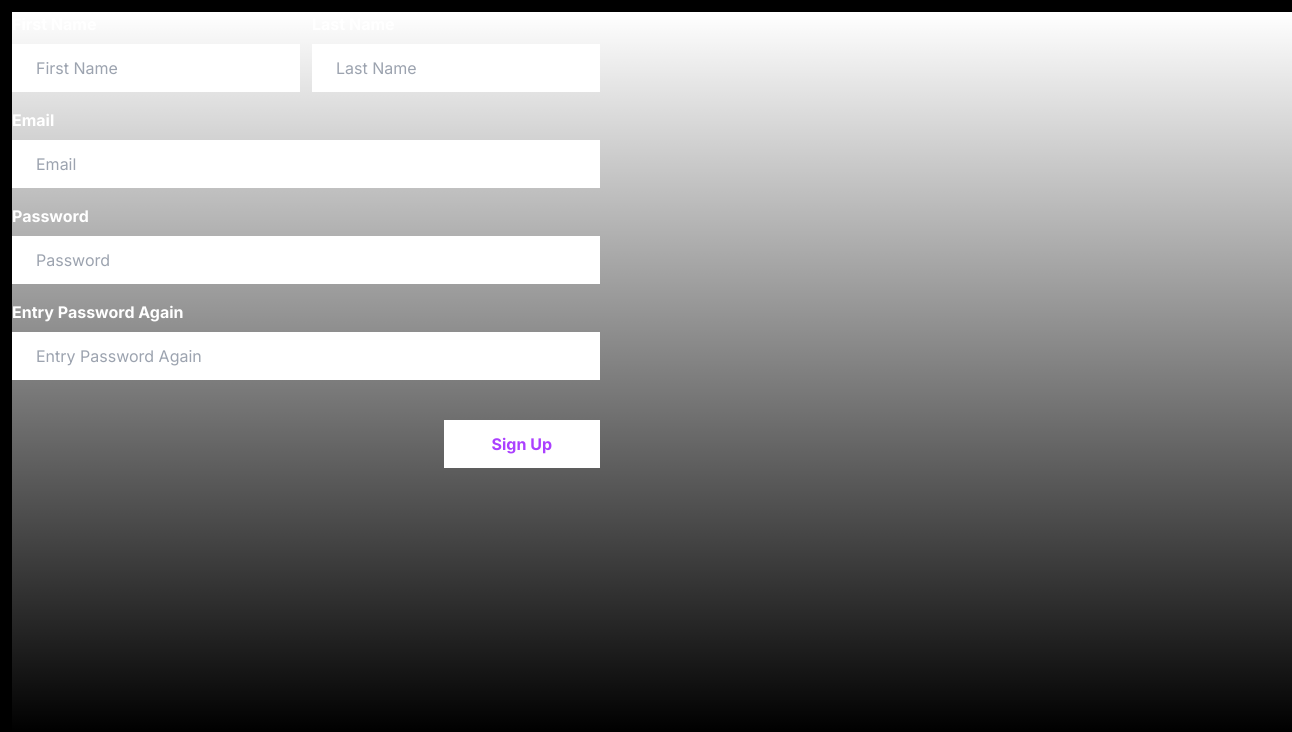
SignUp component › displays password mismatch error
Type "password123" into the password field labelled "Password" at (306, 260), box [12, 236, 600, 284]
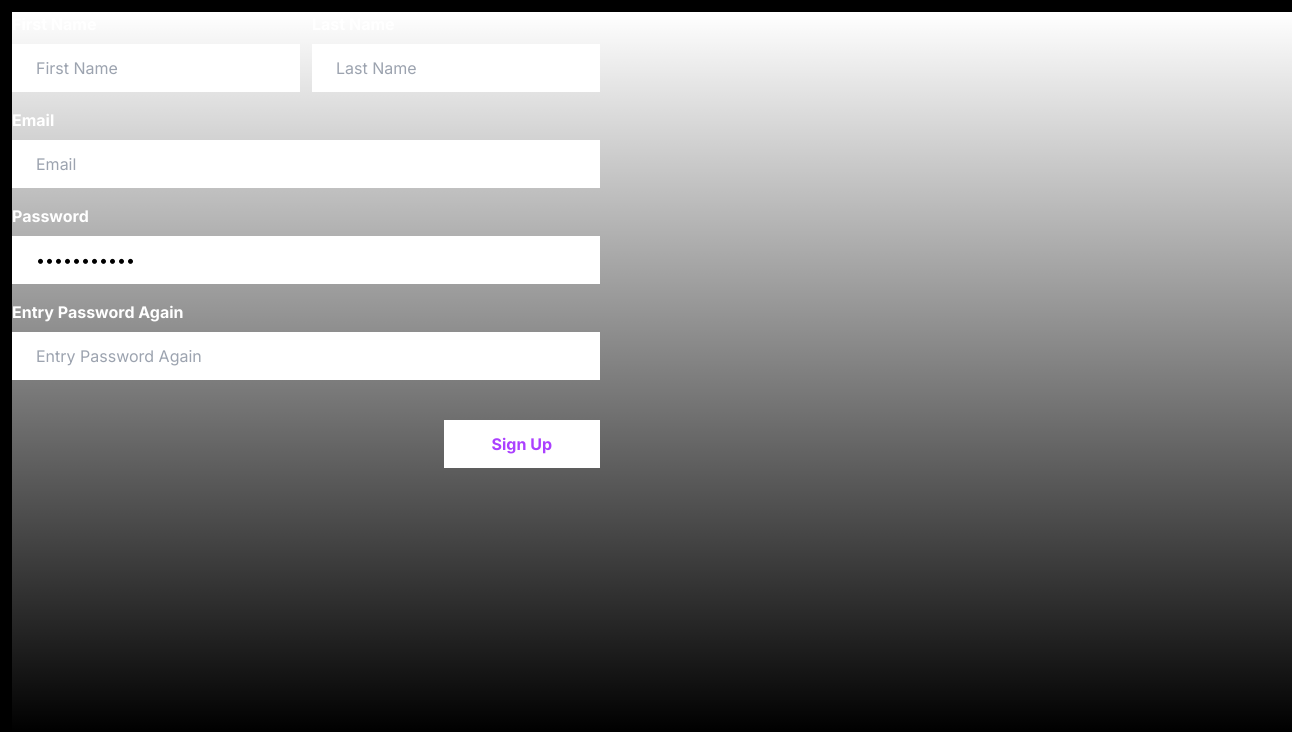
Type "password456" into the password field labelled "Entry Password Again" at (306, 356), box [12, 332, 600, 380]
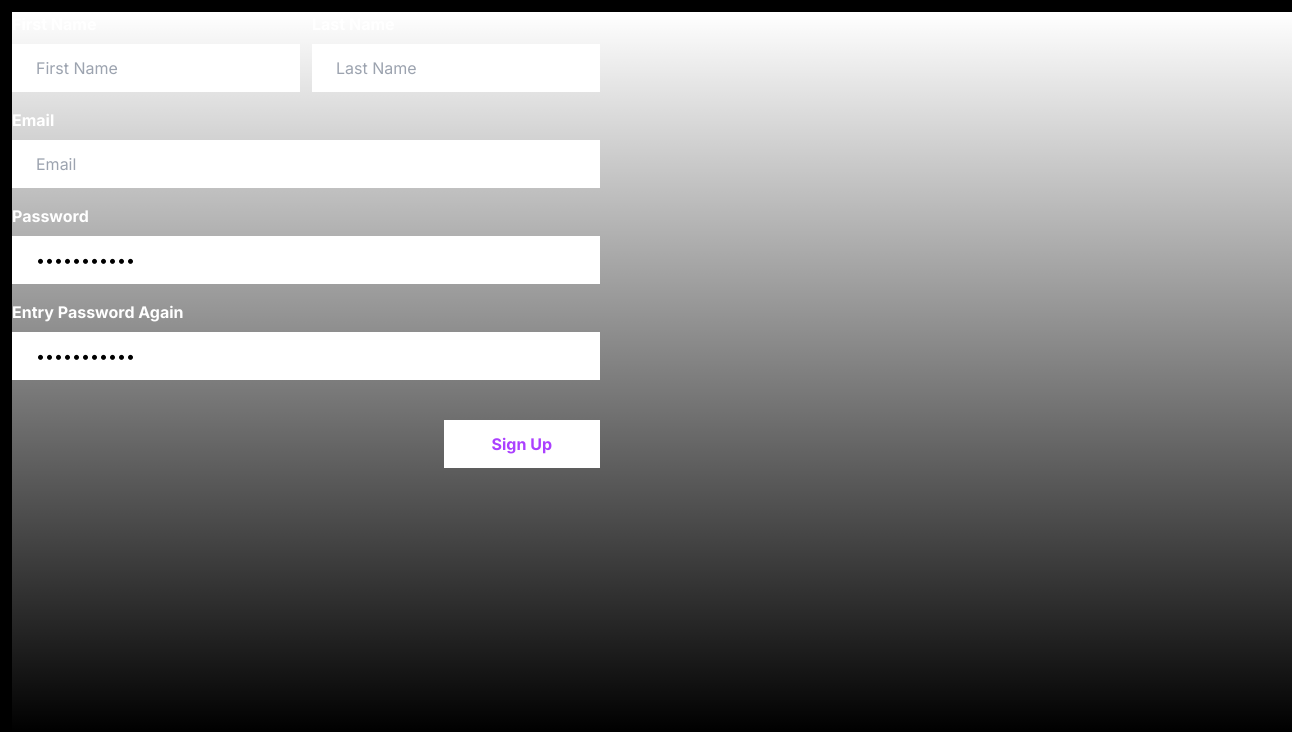
Click the button "Sign Up" at (522, 444), box [444, 420, 600, 468]
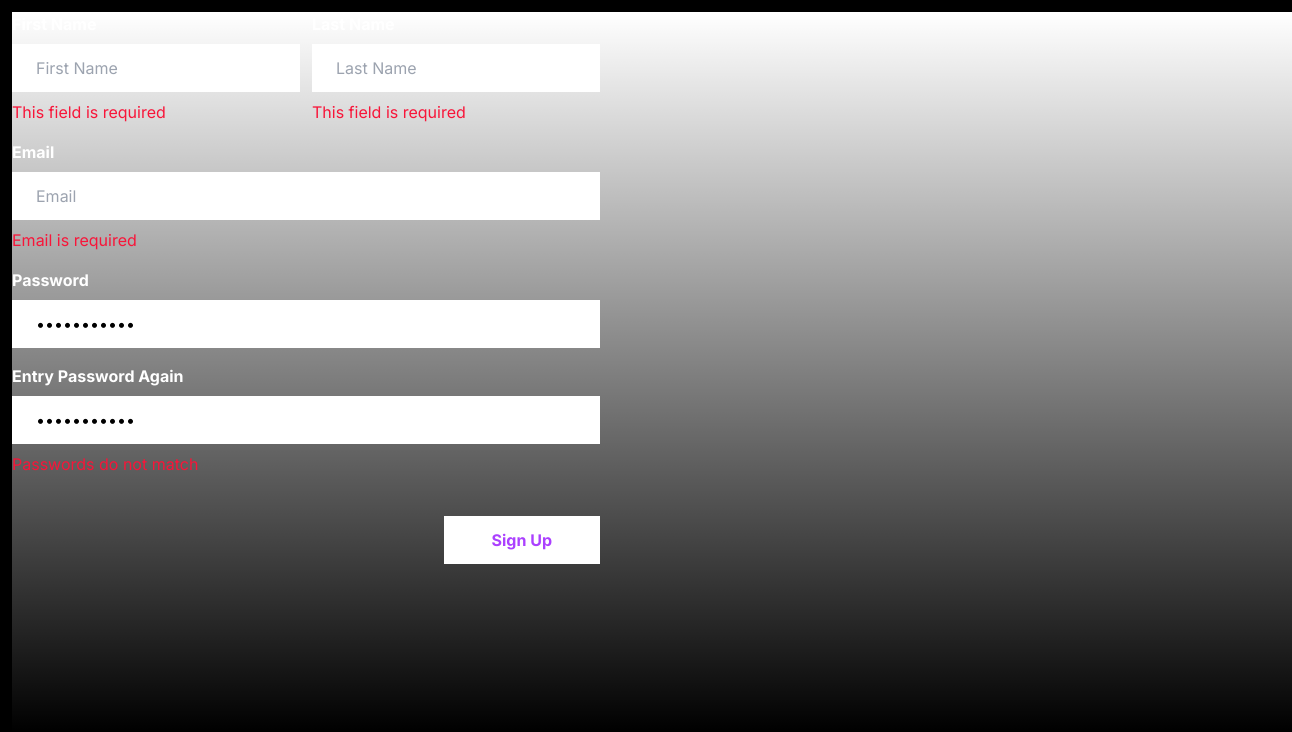
Expected: the text "Passwords do not match" is shown, [12, 454, 198, 474]
